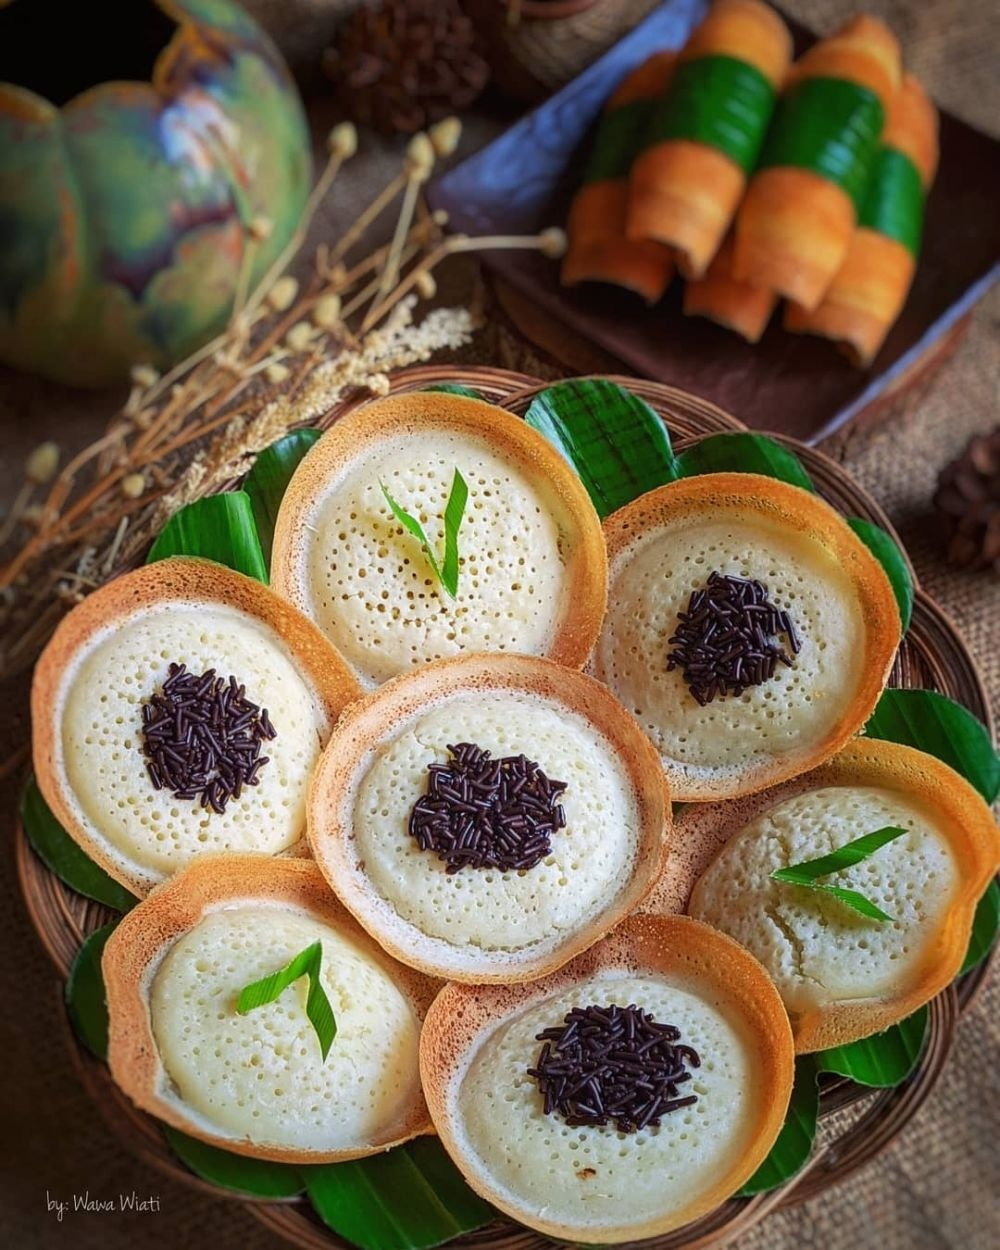srabi: (247, 342, 608, 682), (303, 654, 690, 971), (577, 471, 936, 811), (430, 910, 803, 1236), (31, 546, 348, 882)
